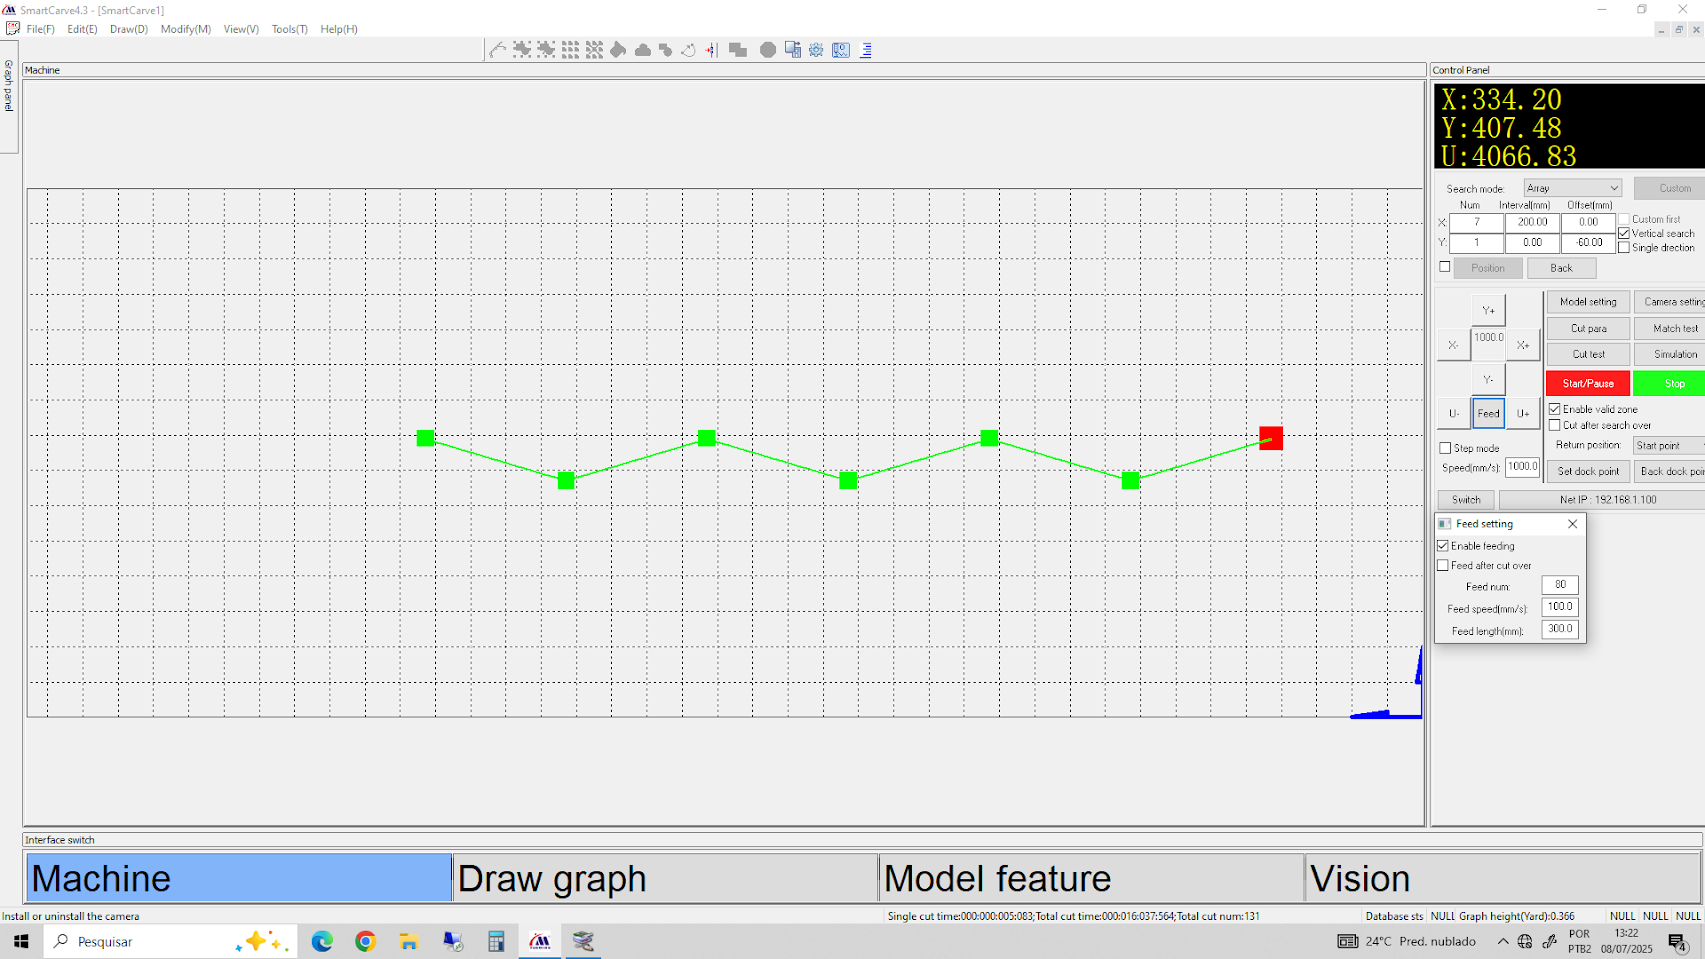start: (1549, 367, 1628, 396)
timer: (1561, 197, 1616, 252)
